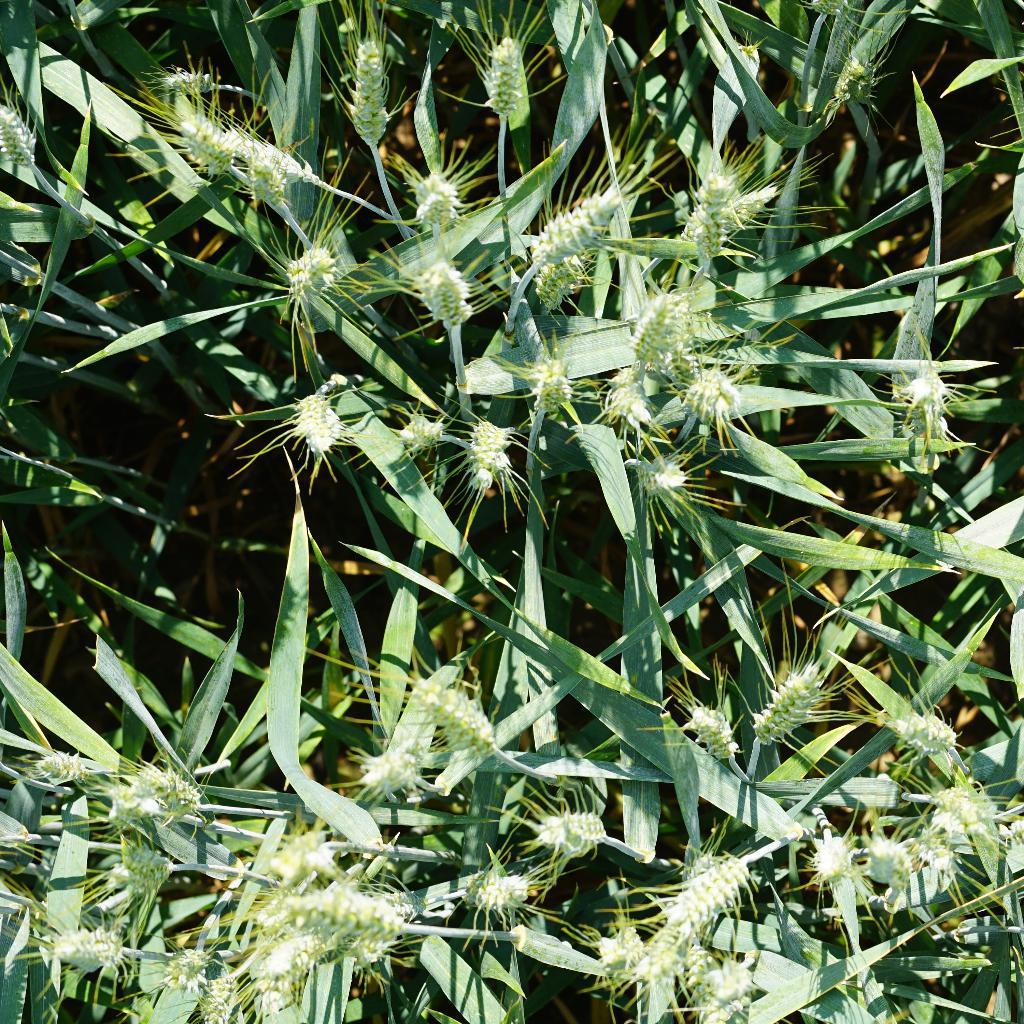0-0: (252, 879, 422, 944), (529, 173, 634, 272), (407, 684, 523, 768), (653, 840, 757, 930), (626, 907, 709, 1014), (748, 661, 836, 752), (419, 256, 494, 347), (519, 348, 591, 433), (518, 791, 615, 854), (218, 120, 311, 183), (621, 428, 695, 507), (681, 950, 759, 1024), (882, 698, 970, 762), (477, 34, 538, 126), (399, 157, 467, 239), (623, 289, 695, 366), (244, 945, 328, 1011), (32, 925, 141, 975), (266, 825, 361, 882), (891, 366, 959, 444), (387, 397, 452, 477), (348, 732, 422, 802), (347, 39, 396, 144), (930, 780, 996, 855), (168, 100, 234, 175), (460, 406, 519, 485), (277, 228, 343, 295), (676, 699, 742, 766), (586, 912, 649, 980), (803, 822, 860, 896), (865, 828, 925, 895), (293, 383, 344, 459), (700, 166, 737, 269), (471, 870, 548, 918), (145, 764, 207, 822), (535, 249, 592, 312), (109, 843, 174, 898), (0, 98, 46, 174), (829, 47, 879, 116), (141, 60, 225, 98), (686, 367, 746, 420), (608, 366, 653, 433), (197, 954, 238, 1024), (153, 946, 206, 997), (912, 831, 960, 882), (35, 745, 87, 790), (734, 184, 783, 228), (378, 885, 429, 925), (97, 787, 150, 825), (247, 156, 284, 207), (347, 935, 393, 969), (795, 0, 869, 21), (667, 344, 700, 386), (674, 206, 704, 249)
